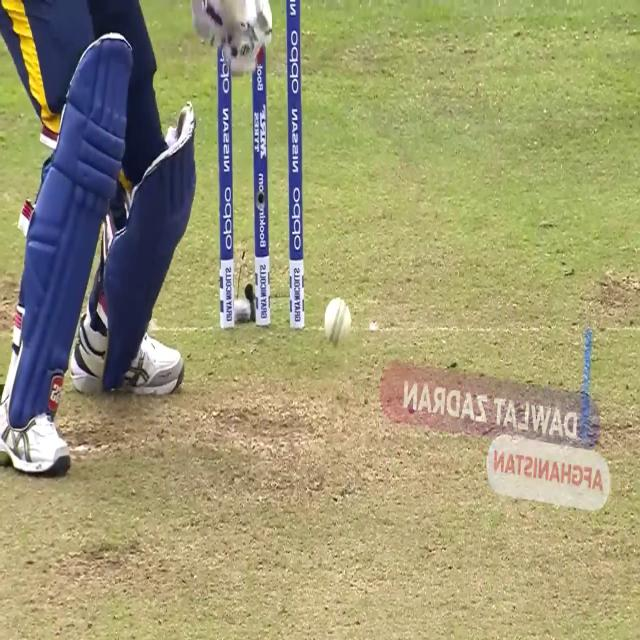ball: (323, 296, 353, 353)
